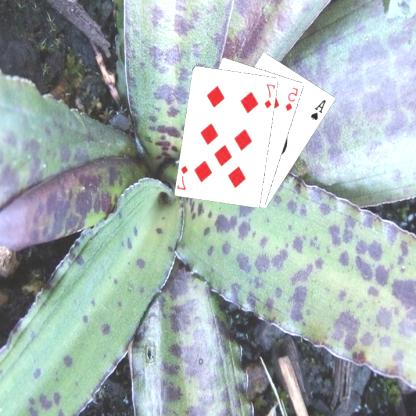5D: (284, 84, 302, 112)
7D: (263, 81, 277, 110), (178, 163, 191, 191)
AS: (310, 96, 330, 122)
